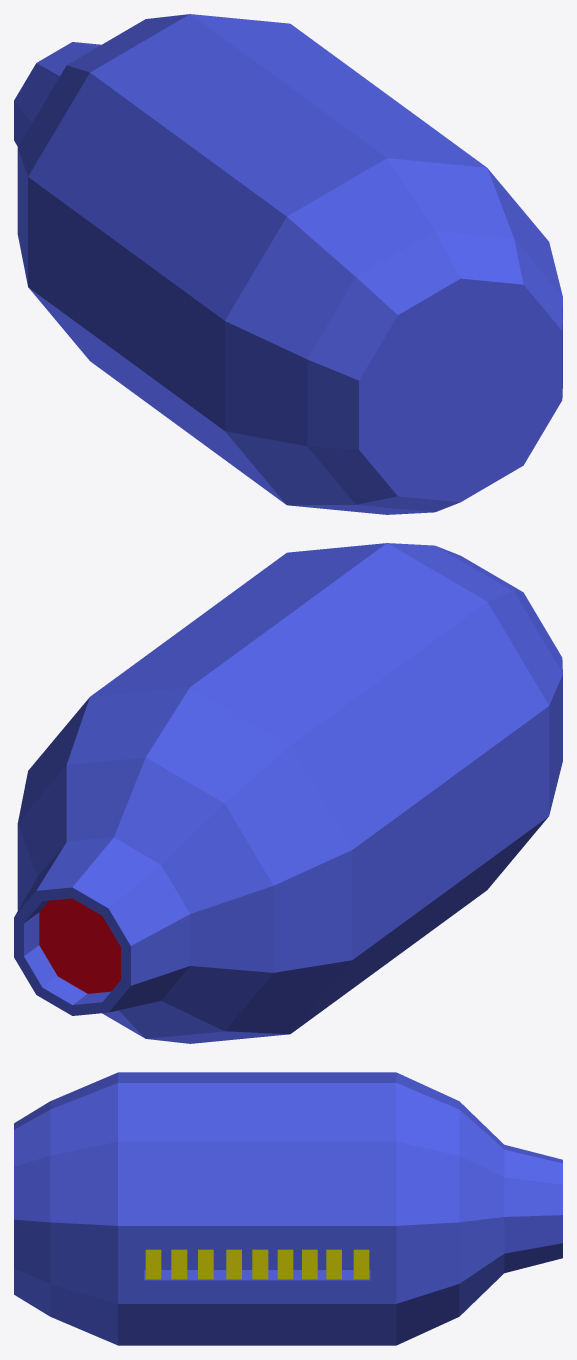
File: Megaman_Cannon.glb
The picture shows the model from 3 angles, top to bottom: view 1: azimuth 30°, elevation 25°; view 2: azimuth 150°, elevation 25°; view 3: azimuth 270°, elevation 25°; orthographic projection. The views are drawn at different scales.
Visible parts, largest first — view 1: Cylinder; view 2: Cylinder; view 3: Cylinder, Cube, Cube.003, Cube.004, Cube.007, Cube.008, Cube.001, Cube.002, Cube.005, Cube.006.
Boxes of the visible parts, left/top/right/bottom form: Cylinder: left=14, top=14, right=562, bottom=514; Cylinder: left=14, top=543, right=562, bottom=1043; Cylinder: left=14, top=1072, right=562, bottom=1345; Cube: left=171, top=1249, right=187, bottom=1279; Cube.003: left=252, top=1249, right=268, bottom=1279; Cube.004: left=277, top=1249, right=293, bottom=1279; Cube.007: left=353, top=1249, right=369, bottom=1279; Cube.008: left=145, top=1249, right=161, bottom=1279; Cube.001: left=198, top=1249, right=213, bottom=1279; Cube.002: left=226, top=1249, right=241, bottom=1279; Cube.005: left=302, top=1249, right=317, bottom=1279; Cube.006: left=326, top=1249, right=341, bottom=1279.
Size of the model in its own units: 1.9 by 2 by 3.95.
